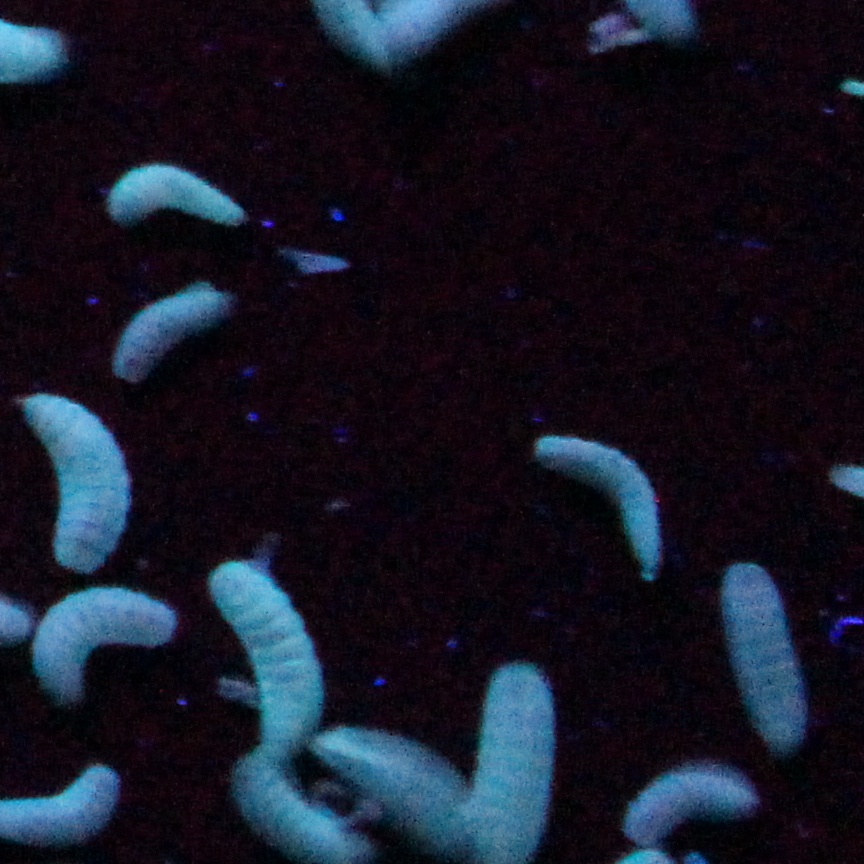larve: (304, 725, 479, 849), (715, 553, 811, 753), (26, 381, 125, 570), (539, 432, 665, 578), (219, 565, 321, 745), (18, 593, 177, 697), (624, 763, 755, 848), (121, 286, 222, 376), (107, 155, 238, 223)
